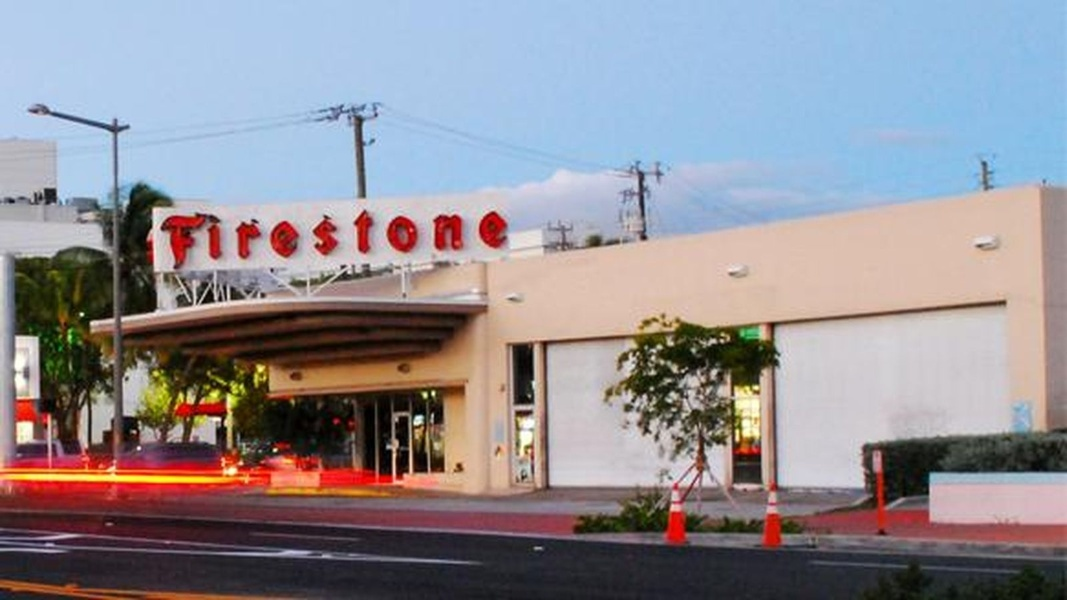text: (161, 207, 176, 272), (177, 207, 192, 272), (193, 207, 208, 272), (209, 207, 224, 272), (225, 207, 240, 272), (241, 207, 256, 272), (257, 207, 272, 272), (273, 207, 288, 272), (289, 207, 304, 272), (305, 207, 320, 272), (321, 207, 336, 272), (337, 207, 352, 272), (353, 207, 368, 272), (369, 207, 384, 272), (385, 207, 400, 272), (401, 207, 416, 272), (417, 207, 432, 272), (433, 207, 448, 272), (449, 207, 464, 272), (465, 207, 480, 272), (481, 207, 496, 272), (497, 207, 511, 272), (158, 207, 160, 272)
